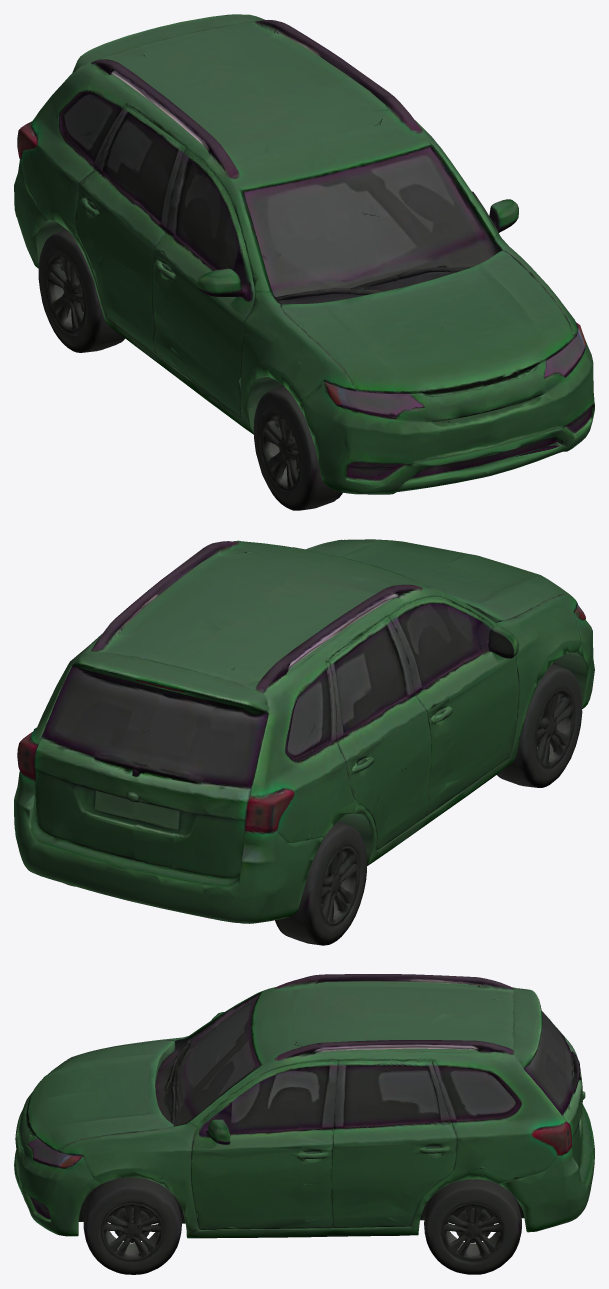
Rendered from suv.glb.
3 views of the same model, one above another, from view 1: azimuth 30°, elevation 25°; view 2: azimuth 150°, elevation 25°; view 3: azimuth 270°, elevation 25° (orthographic). The views are drawn at different scales.
Parts seen in each view (by area): view 1: tripo_node_5748da5e-e0bb-4258-92e0-472643231626; view 2: tripo_node_5748da5e-e0bb-4258-92e0-472643231626; view 3: tripo_node_5748da5e-e0bb-4258-92e0-472643231626.
Part boxes in pixels (box(x1,y1,x2,y2)): tripo_node_5748da5e-e0bb-4258-92e0-472643231626: box(14, 14, 594, 510); tripo_node_5748da5e-e0bb-4258-92e0-472643231626: box(14, 539, 594, 945); tripo_node_5748da5e-e0bb-4258-92e0-472643231626: box(14, 974, 594, 1274).
Bounding box in the file's own units: 0.4897 × 0.4032 × 0.9802.
1 material, 1 textured.
